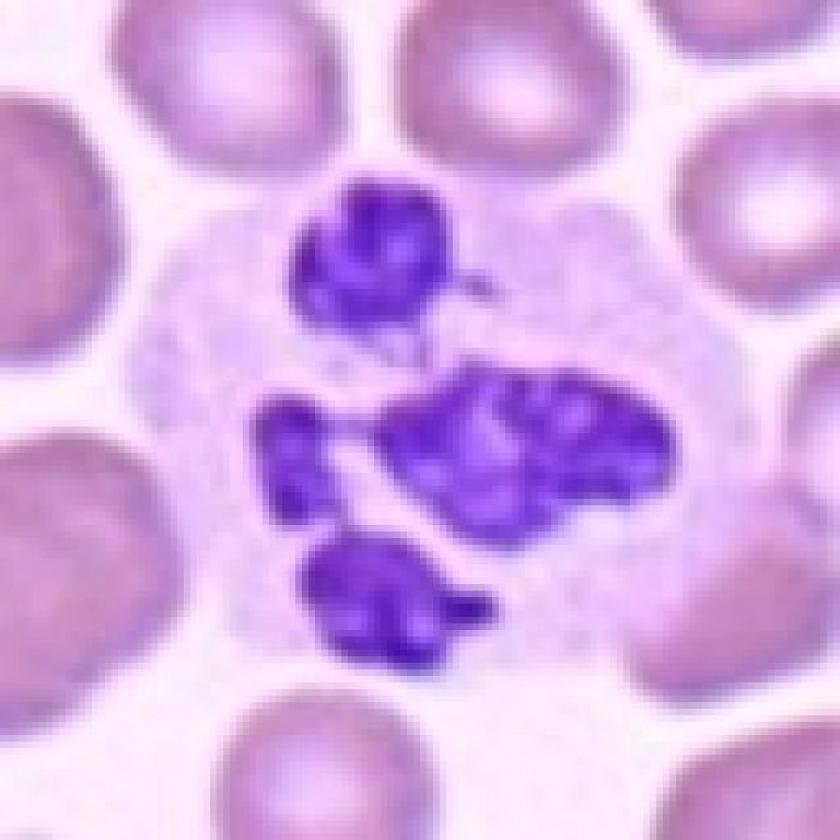neutrophil: (123, 181, 773, 684)
